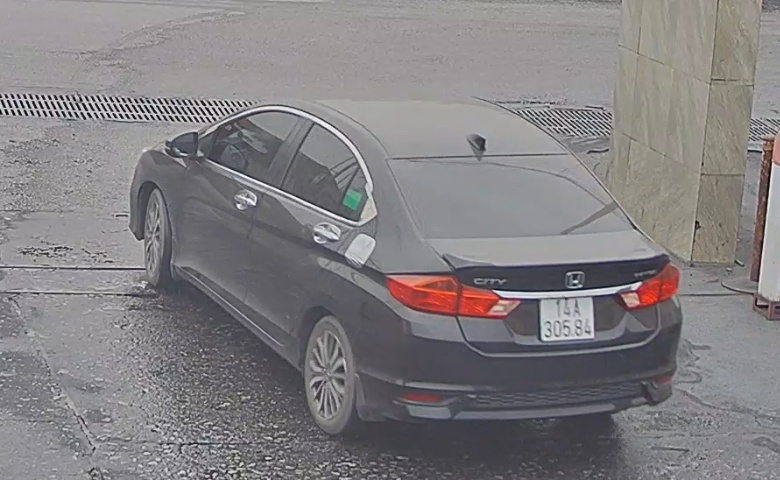vehicle plate: (533, 289, 600, 343)
